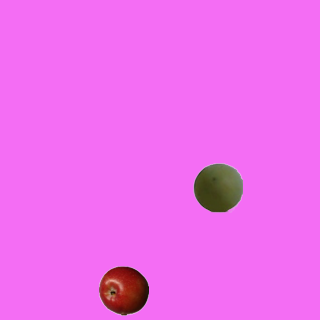Apple Braeburn: (98, 265, 148, 315)
Grape White 4: (192, 162, 242, 212)
